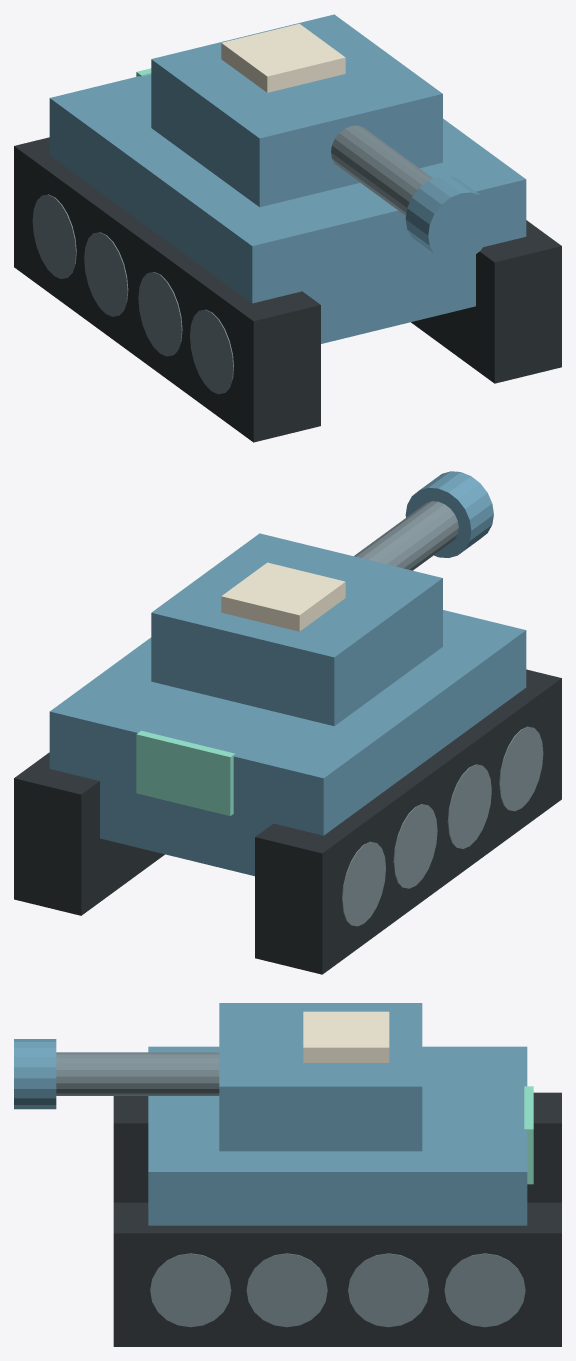
Rendered from tank.glb.
The picture shows the model from 3 angles, top to bottom: view 1: azimuth 30°, elevation 25°; view 2: azimuth 150°, elevation 25°; view 3: azimuth 270°, elevation 25°; orthographic projection. The views are drawn at different scales.
Parts seen in each view (by area): view 1: Armour, Track, Turret shell, Track.001, Muzzle.001, Hatch, Barrel, Track wheel, Track wheel.003, Track wheel.002, Track wheel.001; view 2: Armour, Turret shell, Track, Track.001, Rear core, Hatch, Barrel, Muzzle.001, Track wheel.002, Track wheel.003, Track wheel.001, Track wheel; view 3: Armour, Track.001, Turret shell, Barrel, Track, Track wheel.005, Track wheel.007, Track wheel.004, Track wheel.006, Hatch, Muzzle.001, Rear core.
Part boxes in pixels (left/top/right/bottom): Armour: left=49, top=75, right=526, bottom=343; Track: left=14, top=137, right=320, bottom=442; Turret shell: left=151, top=14, right=442, bottom=207; Track.001: left=411, top=220, right=561, bottom=383; Muzzle.001: left=405, top=176, right=493, bottom=262; Hatch: left=221, top=24, right=345, bottom=92; Barrel: left=331, top=125, right=433, bottom=215; Track wheel: left=190, top=309, right=233, bottom=394; Track wheel.003: left=32, top=194, right=76, bottom=278; Track wheel.002: left=84, top=232, right=128, bottom=316; Track wheel.001: left=138, top=272, right=182, bottom=356; Armour: left=49, top=610, right=526, bottom=876; Turret shell: left=151, top=533, right=442, bottom=726; Track: left=255, top=669, right=561, bottom=974; Track.001: left=14, top=752, right=164, bottom=915; Rear core: left=136, top=730, right=235, bottom=815; Hatch: left=221, top=562, right=345, bottom=631; Barrel: left=354, top=501, right=458, bottom=570; Muzzle.001: left=405, top=471, right=493, bottom=557; Track wheel.002: left=393, top=804, right=437, bottom=888; Track wheel.003: left=342, top=841, right=385, bottom=926; Track wheel.001: left=447, top=764, right=491, bottom=848; Track wheel: left=499, top=726, right=543, bottom=811; Armour: left=148, top=1046, right=527, bottom=1225; Track.001: left=113, top=1202, right=561, bottom=1346; Turret shell: left=219, top=1003, right=422, bottom=1151; Barrel: left=56, top=1052, right=219, bottom=1095; Track: left=113, top=1092, right=561, bottom=1202; Track wheel.005: left=246, top=1253, right=327, bottom=1327; Track wheel.007: left=444, top=1253, right=525, bottom=1327; Track wheel.004: left=150, top=1253, right=231, bottom=1327; Track wheel.006: left=348, top=1253, right=429, bottom=1327; Hatch: left=303, top=1011, right=389, bottom=1062; Muzzle.001: left=14, top=1039, right=56, bottom=1109; Rear core: left=524, top=1086, right=533, bottom=1184.
Bounding box in the file's own units: 1.98 × 1.61 × 3.24.
